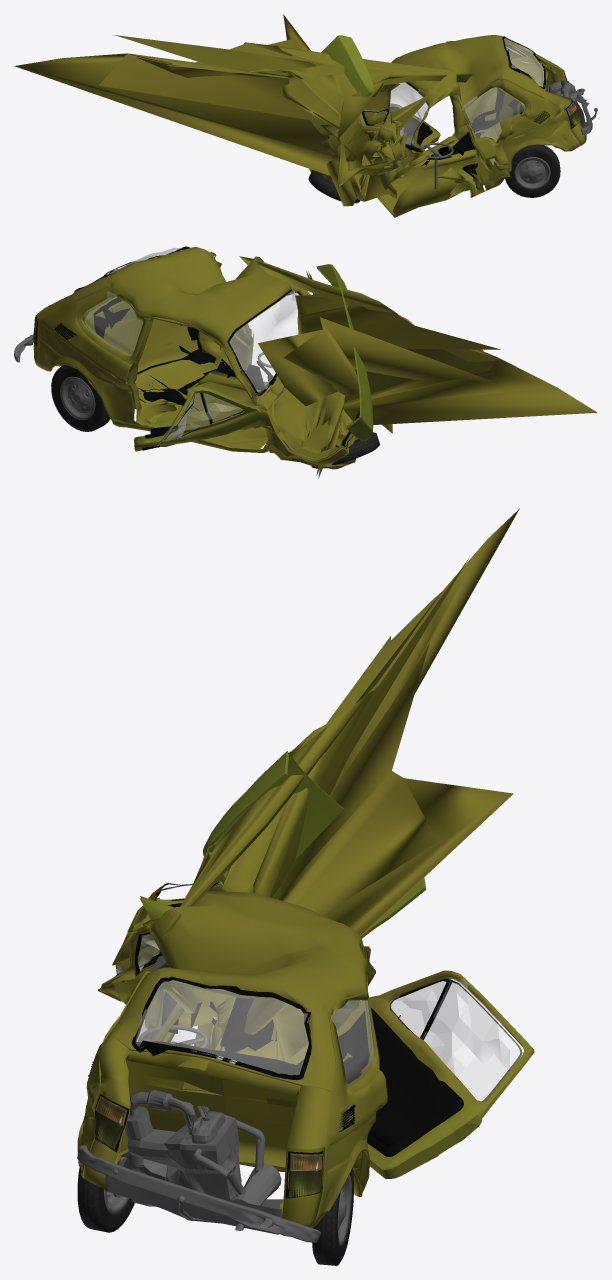
The model's file is Crash7.fbx.
The picture shows the model from 3 angles, top to bottom: view 1: azimuth 30°, elevation 25°; view 2: azimuth 150°, elevation 25°; view 3: azimuth 270°, elevation 25°; orthographic projection. The views are drawn at different scales.
Parts seen in each view (by area): view 1: Mesh_0083_rip1, Mesh_0182_rip, Mesh_0209_rip, Mesh_0131_rip, Mesh_0187_rip.001, Mesh_0212_rip, Mesh_0199_rip, Mesh_0207_rip, Mesh_0187_rip, Mesh_0178_rip, Mesh_0096_rip1, Mesh_0104_rip1 (+2 smaller); view 2: Mesh_0083_rip1, Mesh_0182_rip, Mesh_0212_rip, Mesh_0149_rip1, Mesh_0208_rip, Mesh_0131_rip, Mesh_0210_rip, Mesh_0187_rip.002, Mesh_0197_rip, Mesh_0187_rip, Mesh_0096_rip1; view 3: Mesh_0083_rip1, Mesh_0207_rip, Mesh_0178_rip, Mesh_0096_rip1, Mesh_0210_rip, Mesh_0149_rip1, Mesh_0182_rip, Mesh_0131_rip, Mesh_0098_rip, Mesh_0208_rip, Mesh_0137_rip, Mesh_0187_rip.001 (+2 smaller).
Part boxes in pixels (left/top/right/bottom): Mesh_0083_rip1: left=14, top=14, right=585, bottom=217; Mesh_0182_rip: left=321, top=36, right=580, bottom=178; Mesh_0209_rip: left=463, top=87, right=524, bottom=165; Mesh_0131_rip: left=311, top=35, right=373, bottom=135; Mesh_0187_rip.001: left=505, top=145, right=560, bottom=197; Mesh_0212_rip: left=389, top=82, right=427, bottom=148; Mesh_0199_rip: left=514, top=157, right=550, bottom=189; Mesh_0207_rip: left=504, top=38, right=543, bottom=87; Mesh_0187_rip: left=308, top=170, right=360, bottom=203; Mesh_0178_rip: left=548, top=78, right=584, bottom=148; Mesh_0096_rip1: left=389, top=106, right=432, bottom=141; Mesh_0104_rip1: left=421, top=142, right=453, bottom=188; Mesh_0083_rip1: left=33, top=247, right=597, bottom=478; Mesh_0182_rip: left=35, top=246, right=359, bottom=458; Mesh_0212_rip: left=229, top=291, right=298, bottom=394; Mesh_0149_rip1: left=134, top=387, right=261, bottom=451; Mesh_0208_rip: left=82, top=291, right=142, bottom=355; Mesh_0131_rip: left=316, top=264, right=373, bottom=441; Mesh_0210_rip: left=156, top=390, right=243, bottom=442; Mesh_0187_rip.002: left=51, top=364, right=110, bottom=431; Mesh_0197_rip: left=60, top=376, right=95, bottom=420; Mesh_0187_rip: left=311, top=432, right=379, bottom=468; Mesh_0096_rip1: left=142, top=393, right=244, bottom=450; Mesh_0083_rip1: left=77, top=508, right=519, bottom=1227; Mesh_0207_rip: left=136, top=980, right=309, bottom=1074; Mesh_0178_rip: left=123, top=1090, right=281, bottom=1230; Mesh_0096_rip1: left=297, top=978, right=522, bottom=1156; Mesh_0210_rip: left=389, top=978, right=523, bottom=1101; Mesh_0149_rip1: left=287, top=970, right=534, bottom=1178; Mesh_0182_rip: left=88, top=880, right=355, bottom=1198; Mesh_0131_rip: left=203, top=751, right=426, bottom=938; Mesh_0098_rip: left=77, top=1145, right=321, bottom=1242; Mesh_0208_rip: left=331, top=1000, right=373, bottom=1089; Mesh_0137_rip: left=105, top=1175, right=281, bottom=1234; Mesh_0187_rip.001: left=77, top=1167, right=134, bottom=1232.
Size of the model in its own units: 14.58 by 4.88 by 5.66.
Materials: 6 (4 with a texture image).
